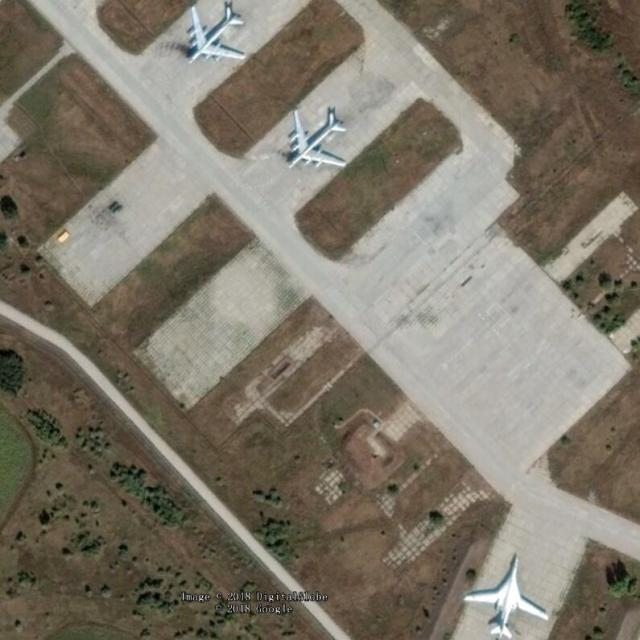fighter jet: (468, 559, 546, 637), (178, 1, 250, 70), (273, 112, 350, 168)
